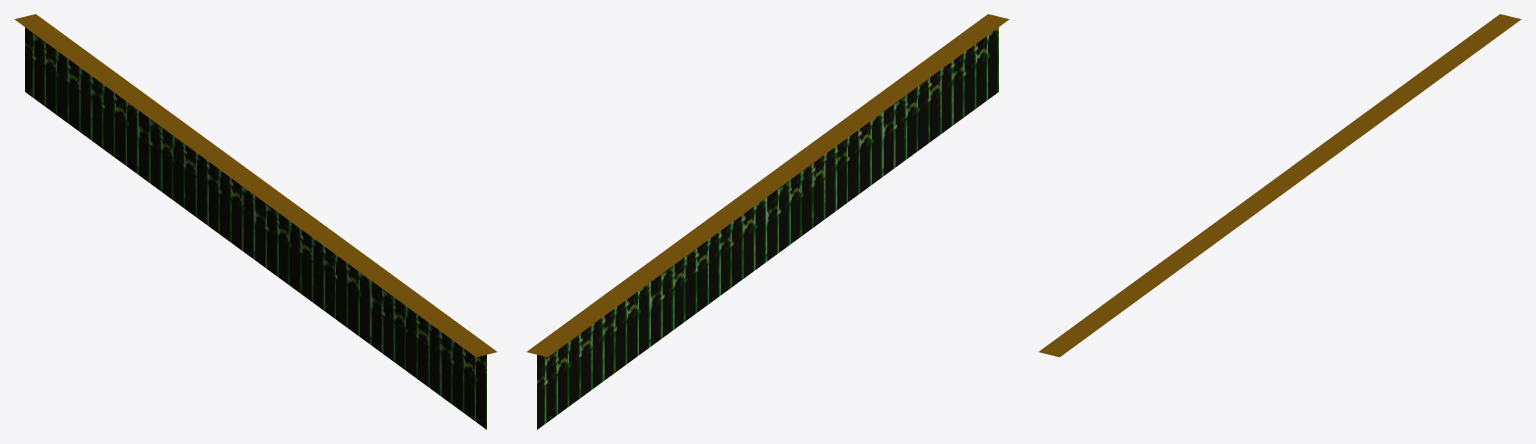
The model's file is Geländer4Gedreht [GrünesMetallDunkel]_613.glb.
The picture shows the model from 3 angles, left to right: view 1: azimuth 30°, elevation 25°; view 2: azimuth 150°, elevation 25°; view 3: azimuth 330°, elevation 25°; orthographic projection.
Visible parts, largest first — view 1: pPlaneShape223, pPlaneShape224; view 2: pPlaneShape223, pPlaneShape224; view 3: pPlaneShape224.
Boxes of the visible parts, x1,y1,x2,y2 form: pPlaneShape223: (25,27,486,429); pPlaneShape224: (14,14,496,357); pPlaneShape223: (537,27,998,429); pPlaneShape224: (527,14,1009,357); pPlaneShape224: (1039,14,1521,357).
Size of the model in its own units: 0.0243 by 0.081 by 0.9007.
Materials: 2 (1 with a texture image).
